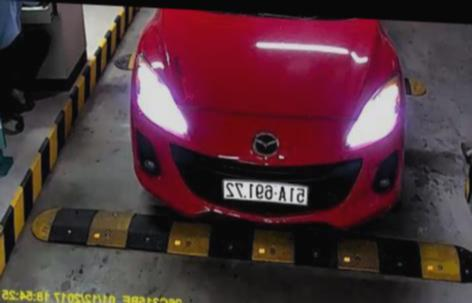License_Plate: (218, 174, 317, 211)
